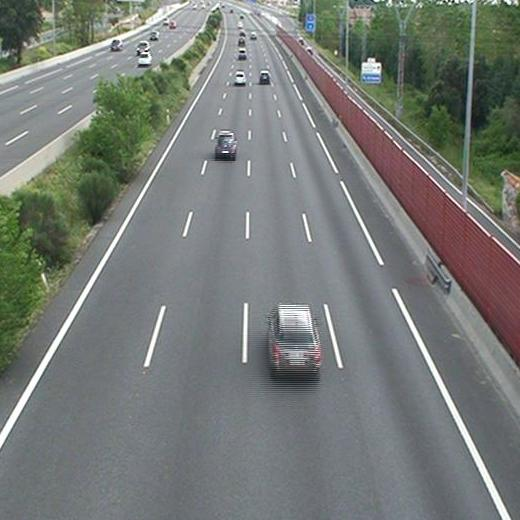car: (268, 306, 320, 372), (216, 131, 237, 156), (234, 71, 245, 85), (260, 71, 270, 84), (237, 49, 246, 60), (237, 35, 246, 45)
